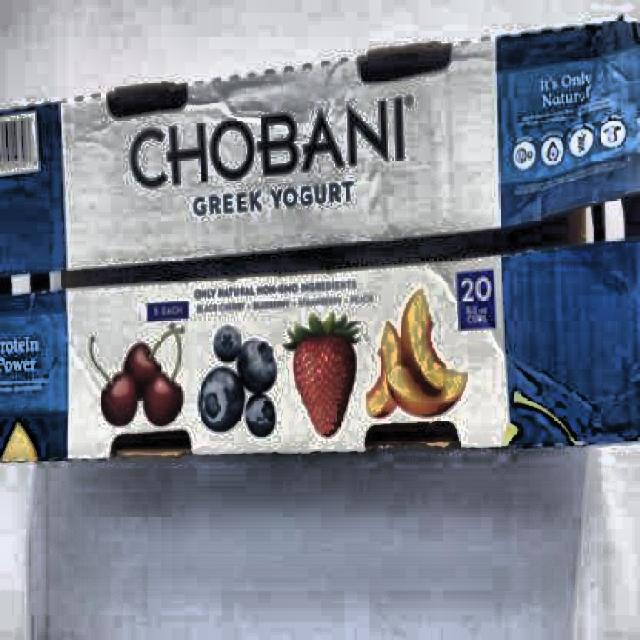Cardbox: (0, 0, 640, 522)
